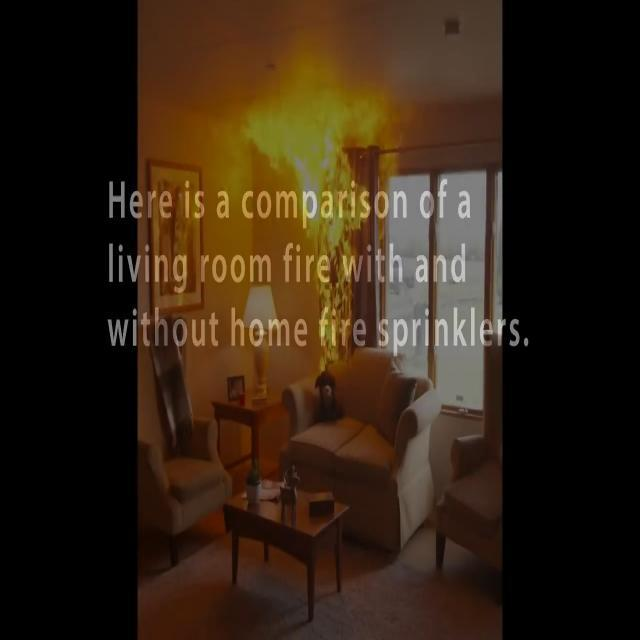Fire: (254, 46, 357, 344)
